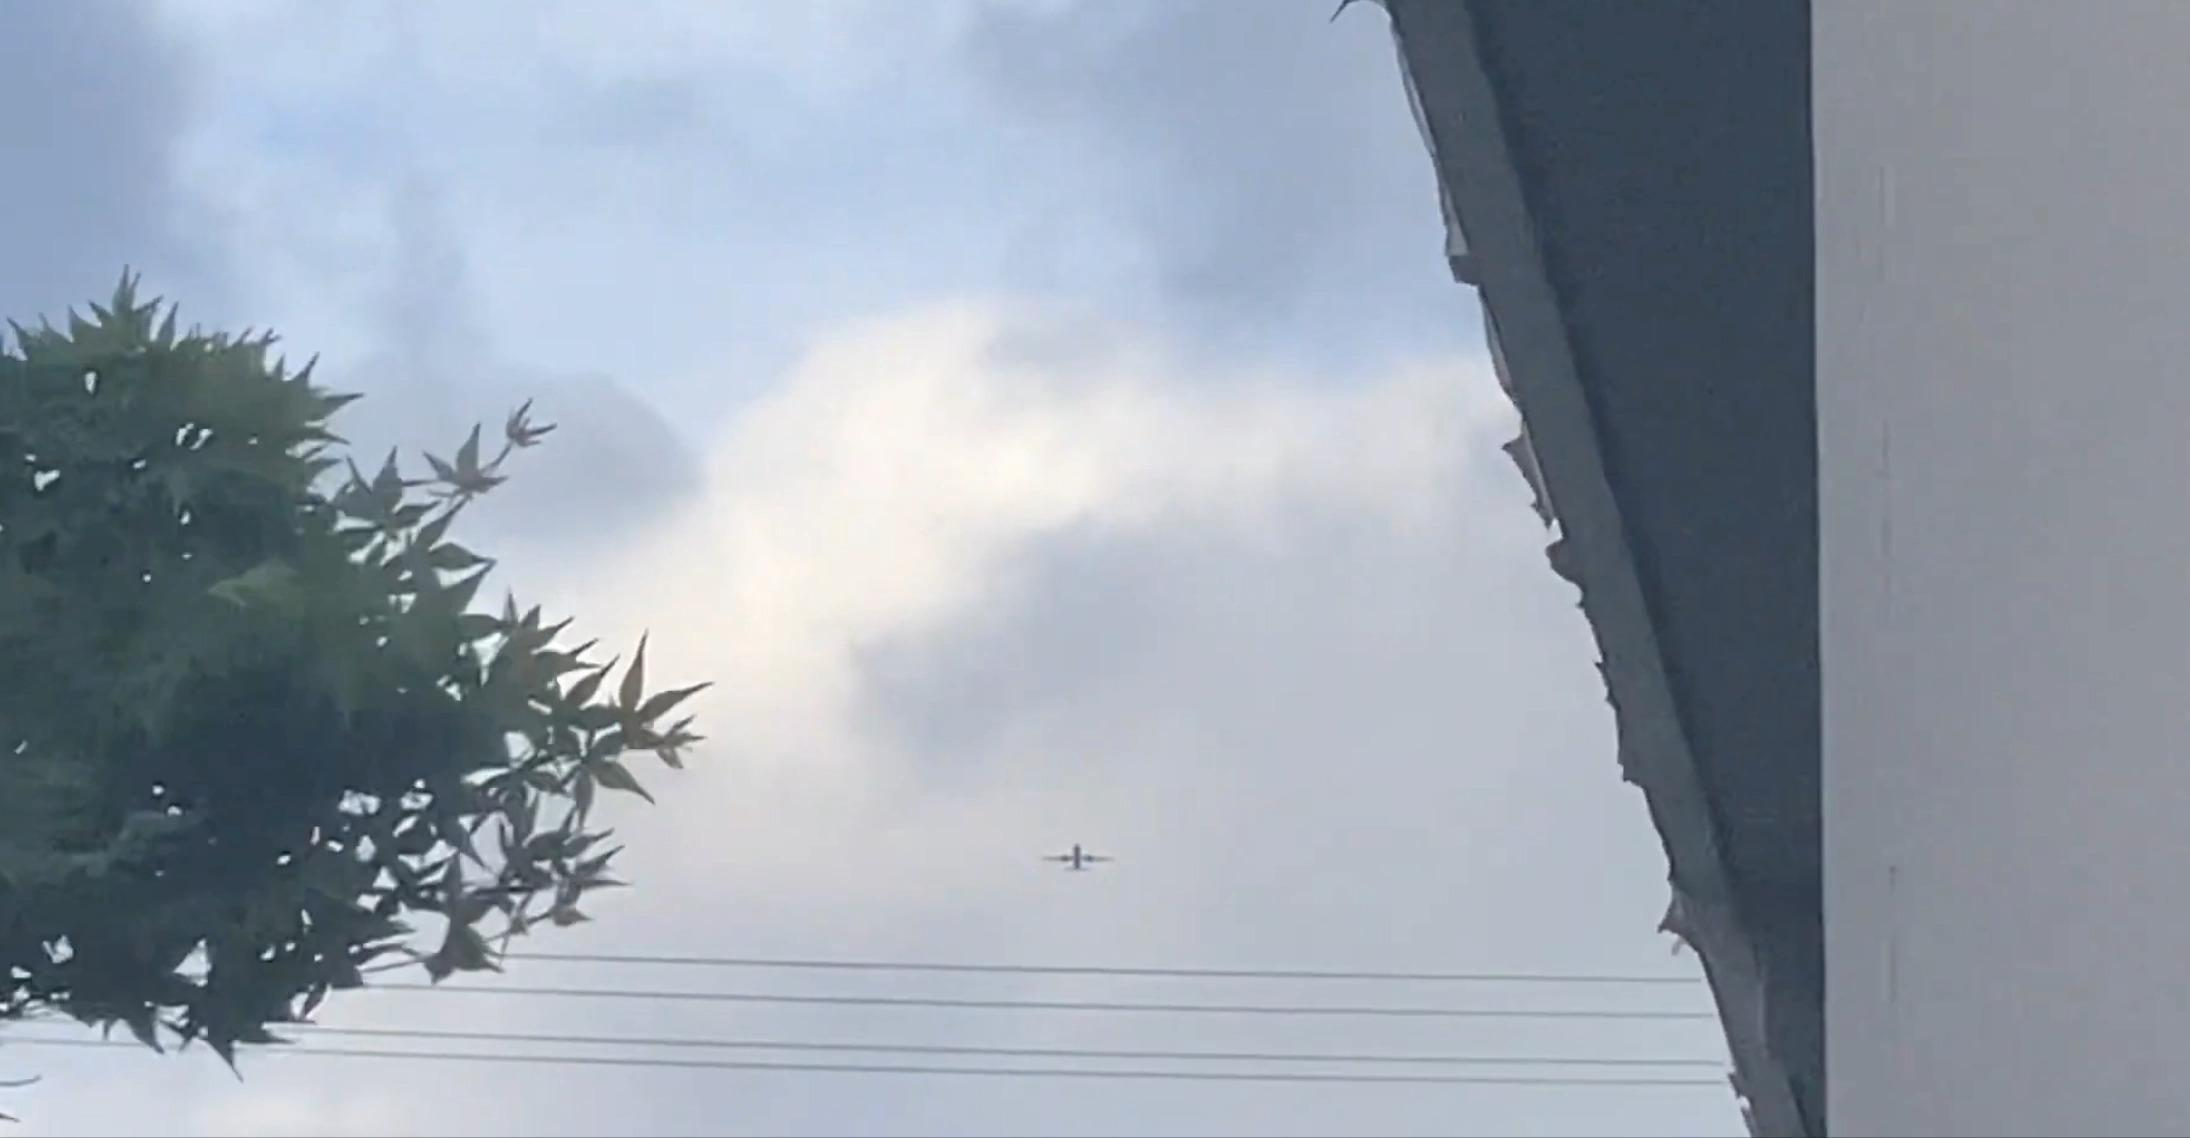Plane: (1008, 833, 1146, 886)
